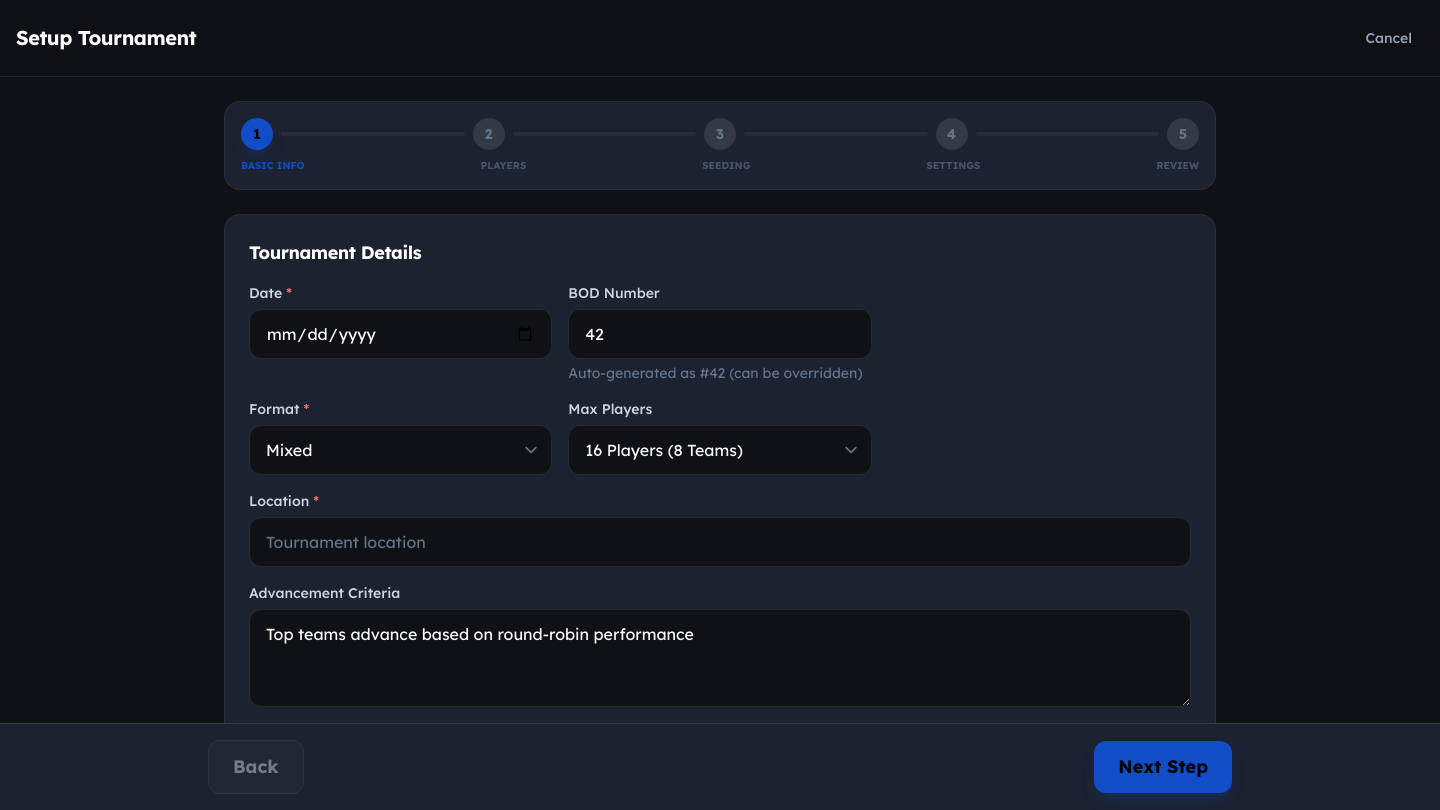
TournamentSetup Page › validates basic info step
# Empty date initially
Click the button "Next Step".
click(1163, 767)  # box x1=1094 y1=741 x2=1232 y2=793
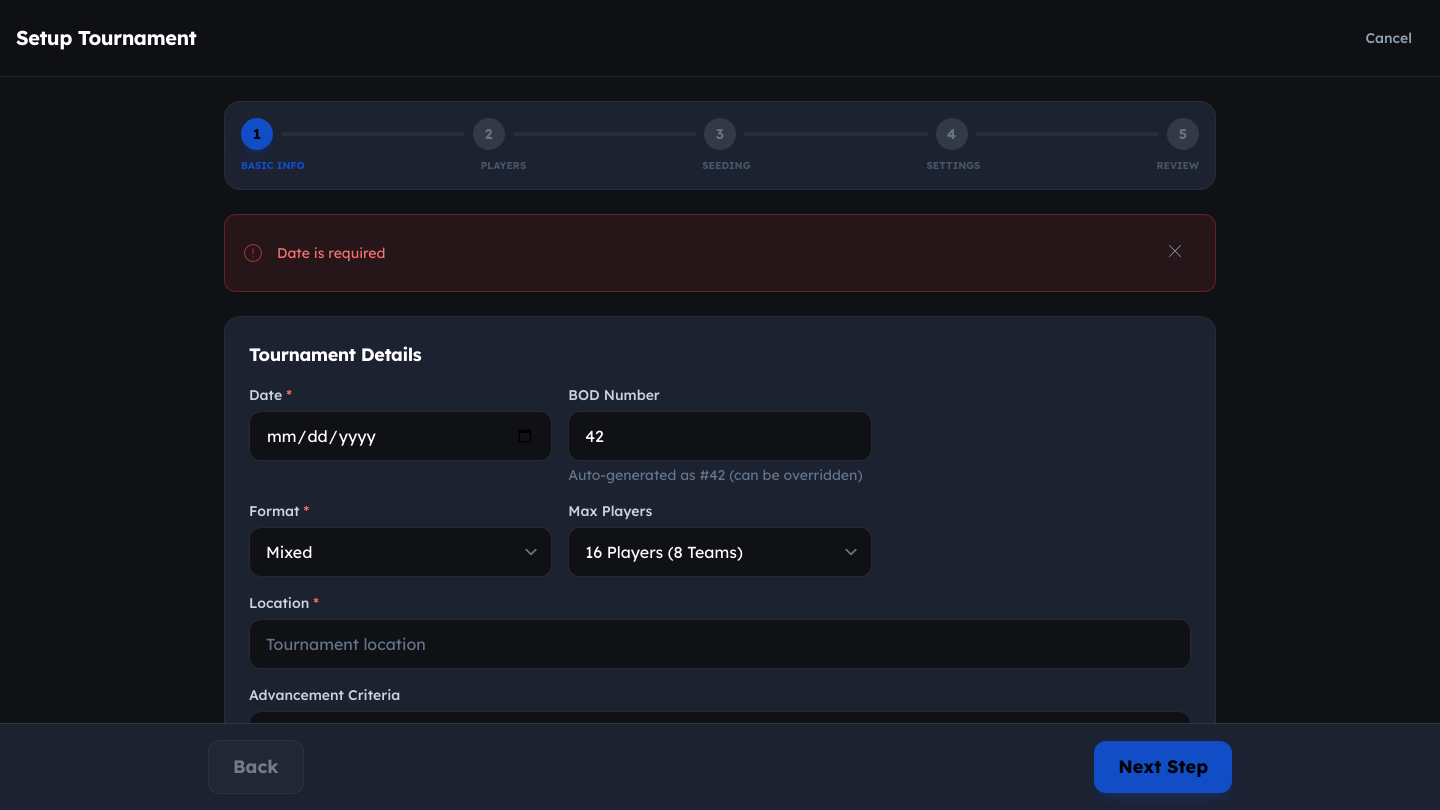
Check: the text "Date is required" is shown, box x1=277 y1=243 x2=385 y2=263
# Fill date
Type "2025-12-25" into the date field with test id "date-input".
click(401, 436); type("2025-12-25")  # box x1=249 y1=411 x2=552 y2=461
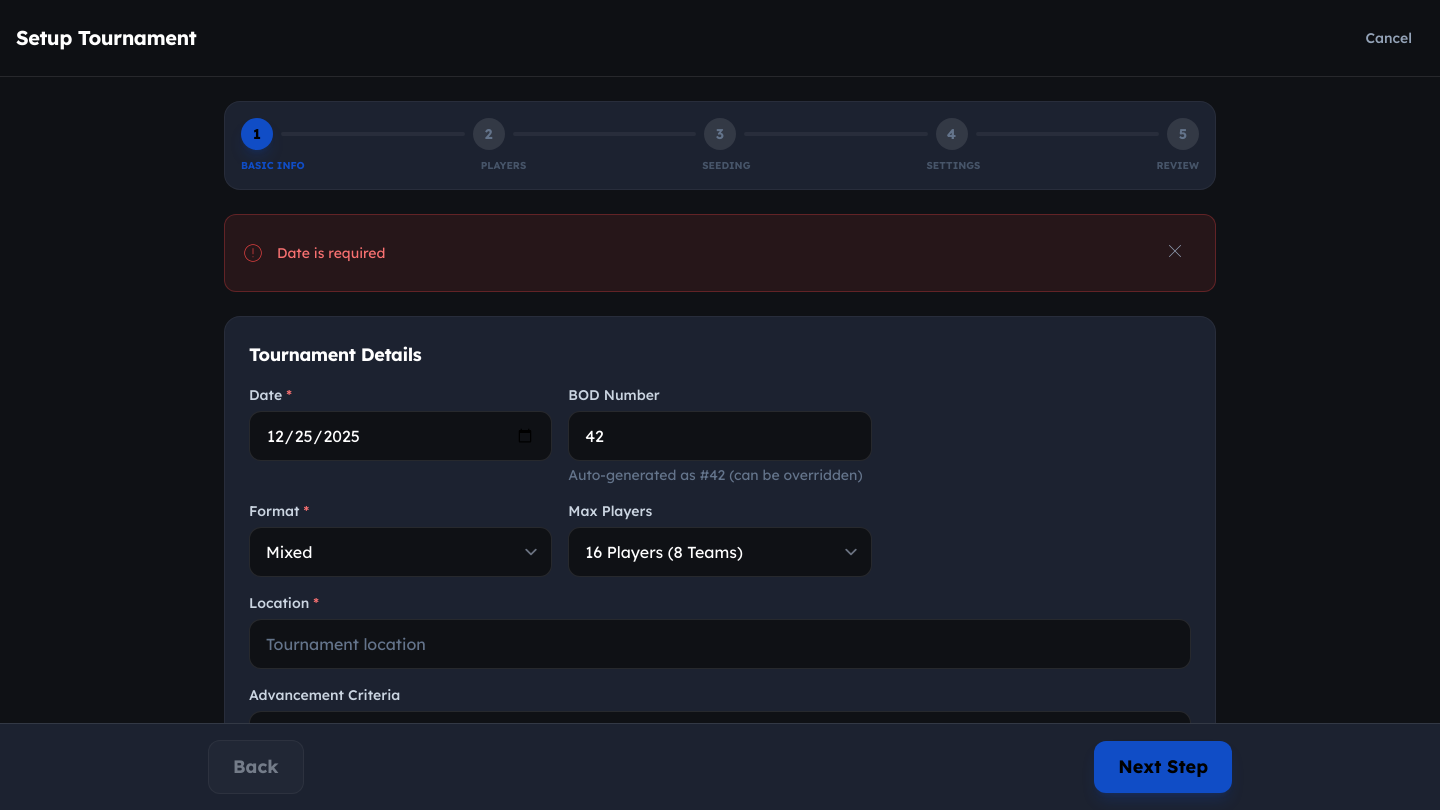
# Fill location
Type "Test Arena" into the field with placeholder "Tournament location".
click(720, 644); type("Test Arena")  # box x1=249 y1=619 x2=1191 y2=669
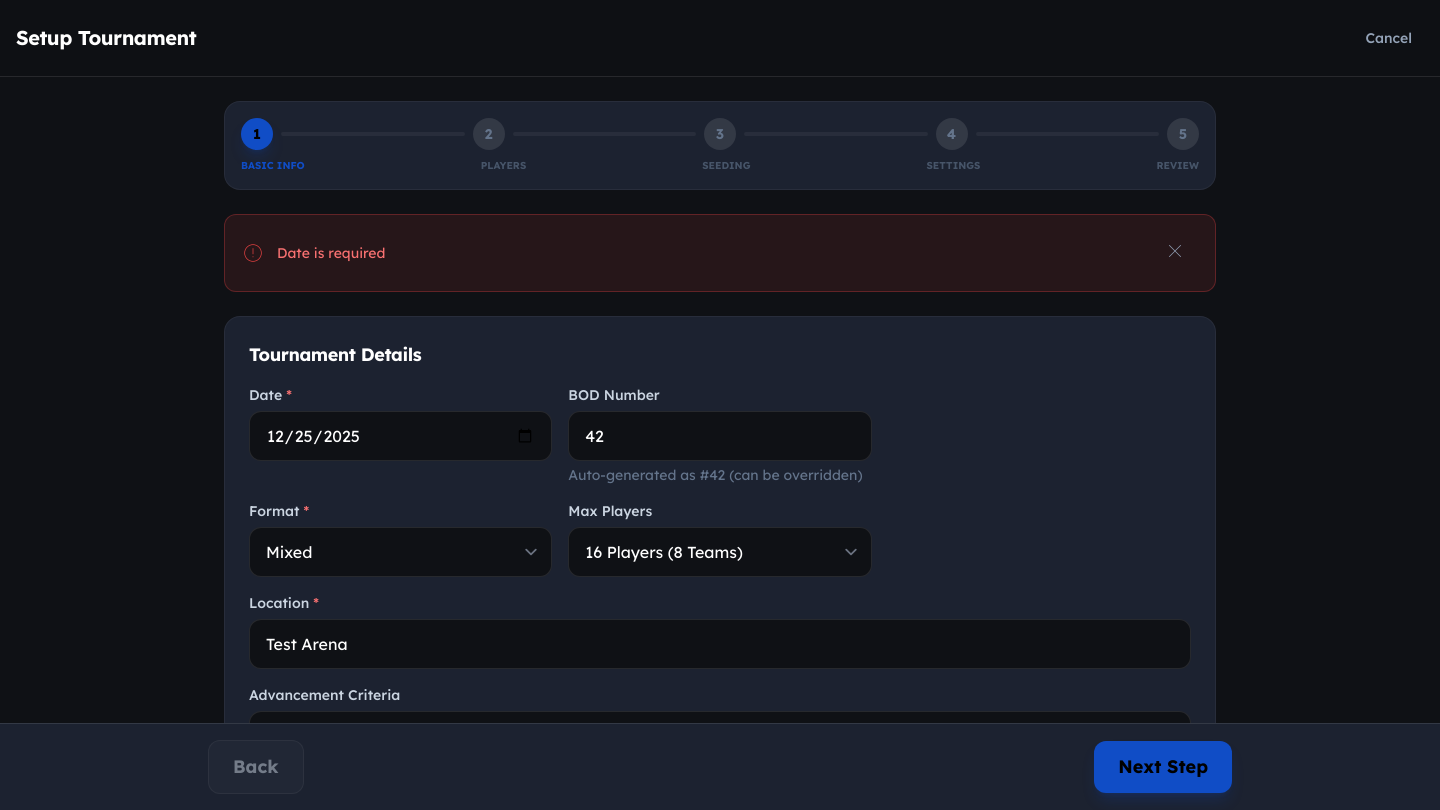
# Next should work now
Click the button "Next Step".
click(1163, 767)  # box x1=1094 y1=741 x2=1232 y2=793
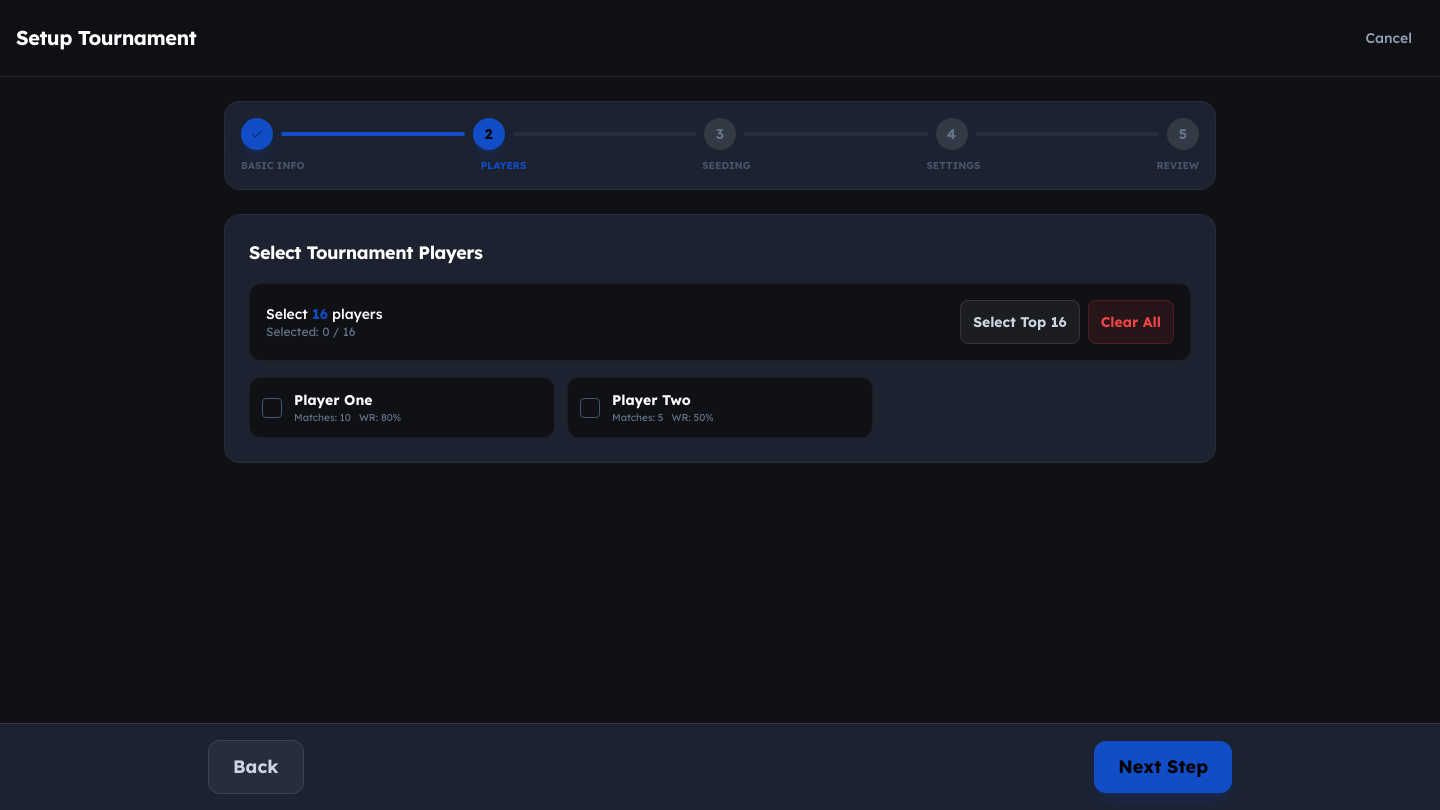
Check: the heading "Select Tournament Players" is shown, box x1=249 y1=241 x2=483 y2=264
